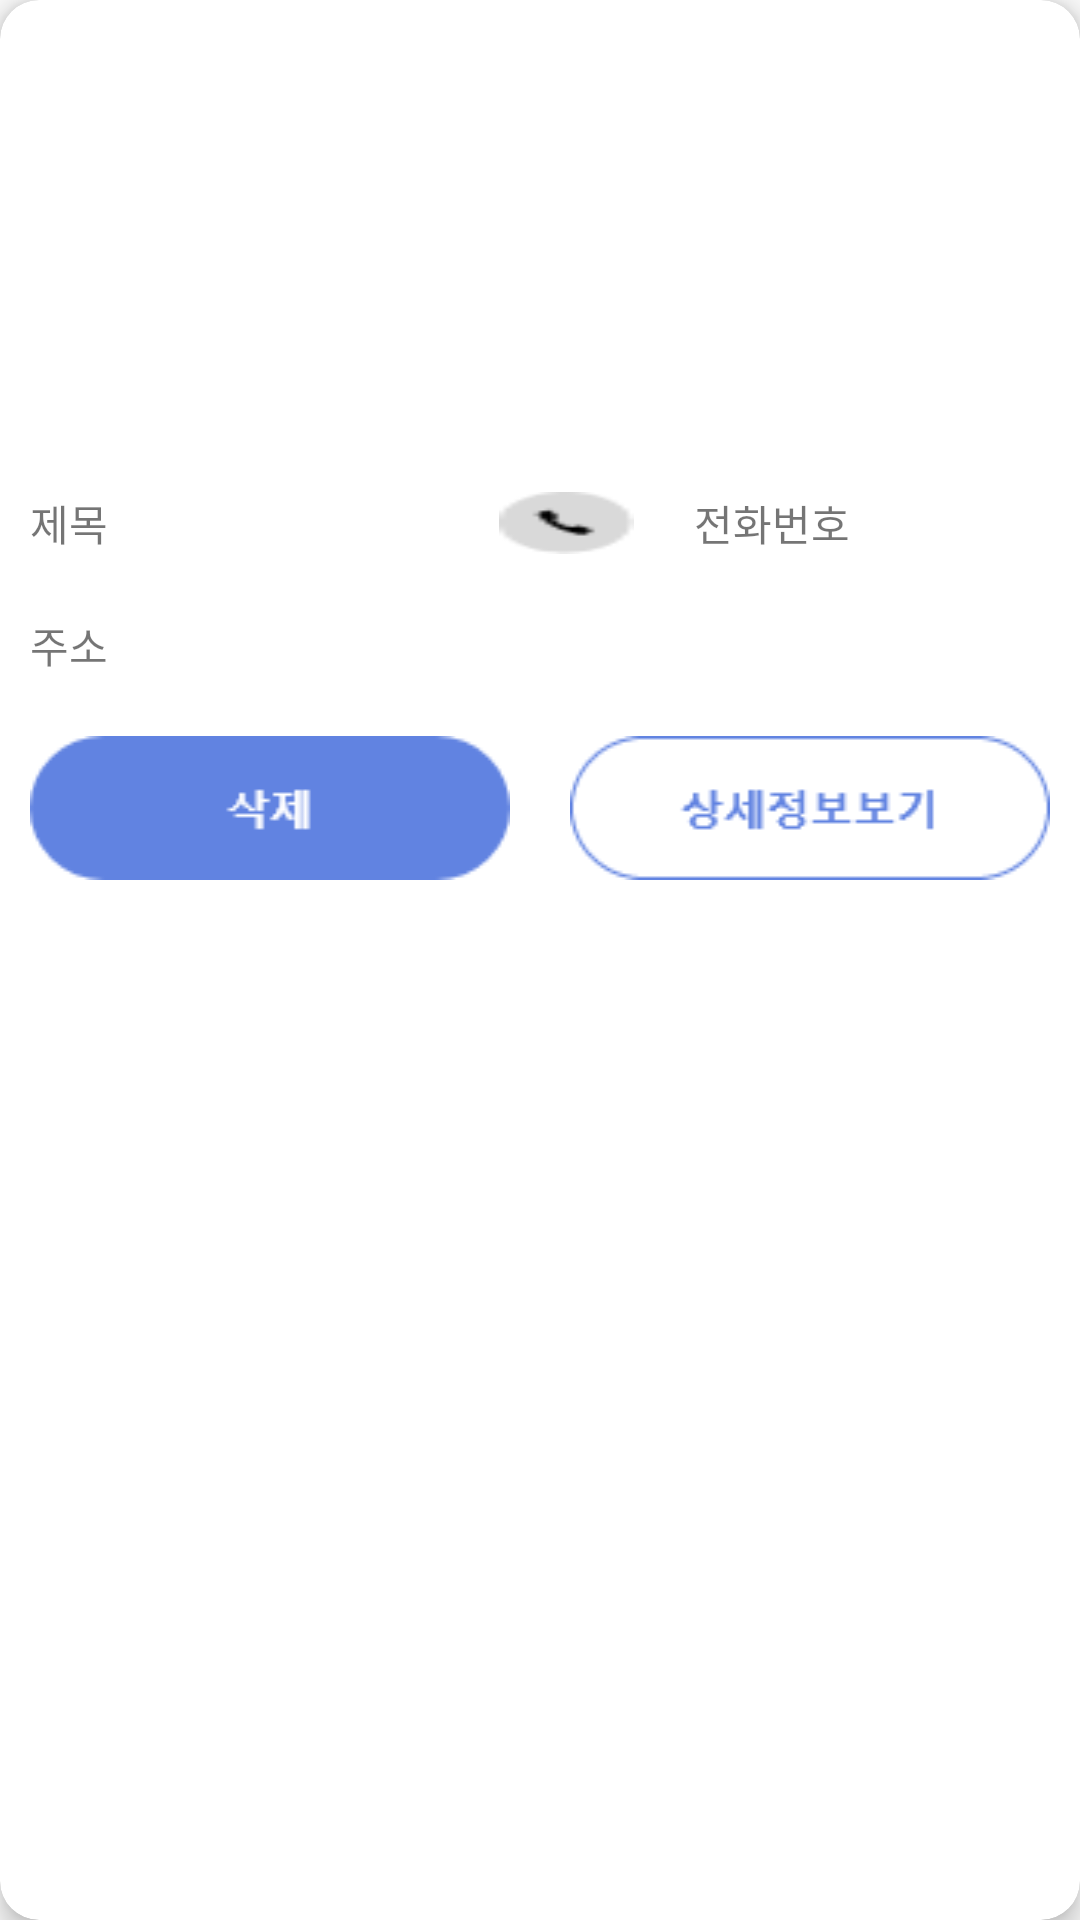

Point at icon controls on the screen. Image size 1080×1920, points as (x,y).
phone: (564,522)
